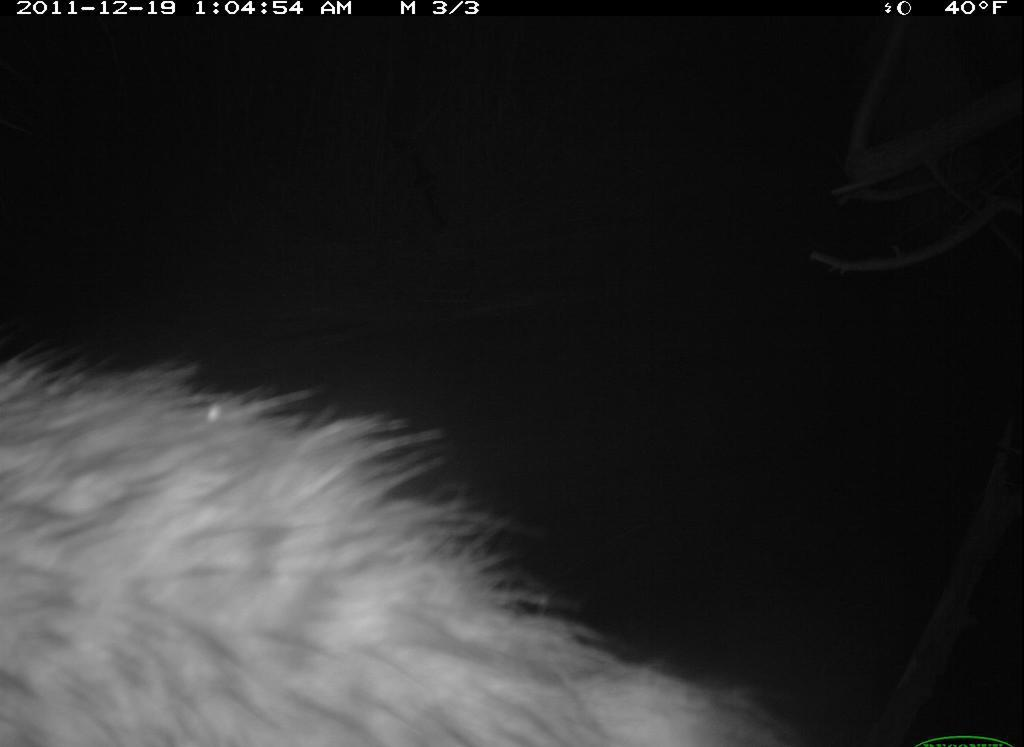raccoon: (2, 326, 813, 747)
